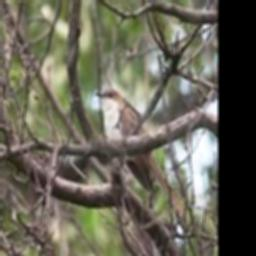Cuckoo: (94, 88, 185, 213)
